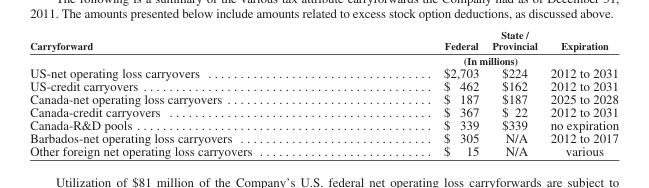table: (29, 28, 618, 157)
table column: (29, 28, 347, 157), (347, 28, 484, 157), (543, 28, 618, 157), (484, 28, 543, 157)
table column header: (29, 28, 618, 65)
table row: (29, 28, 618, 52), (29, 65, 618, 79), (29, 143, 618, 157), (29, 52, 618, 65), (29, 79, 618, 92), (29, 104, 618, 117), (29, 117, 618, 130), (29, 130, 618, 143), (29, 92, 618, 104)
table spanning cell: (29, 28, 347, 65), (543, 28, 618, 65), (347, 52, 543, 65)
